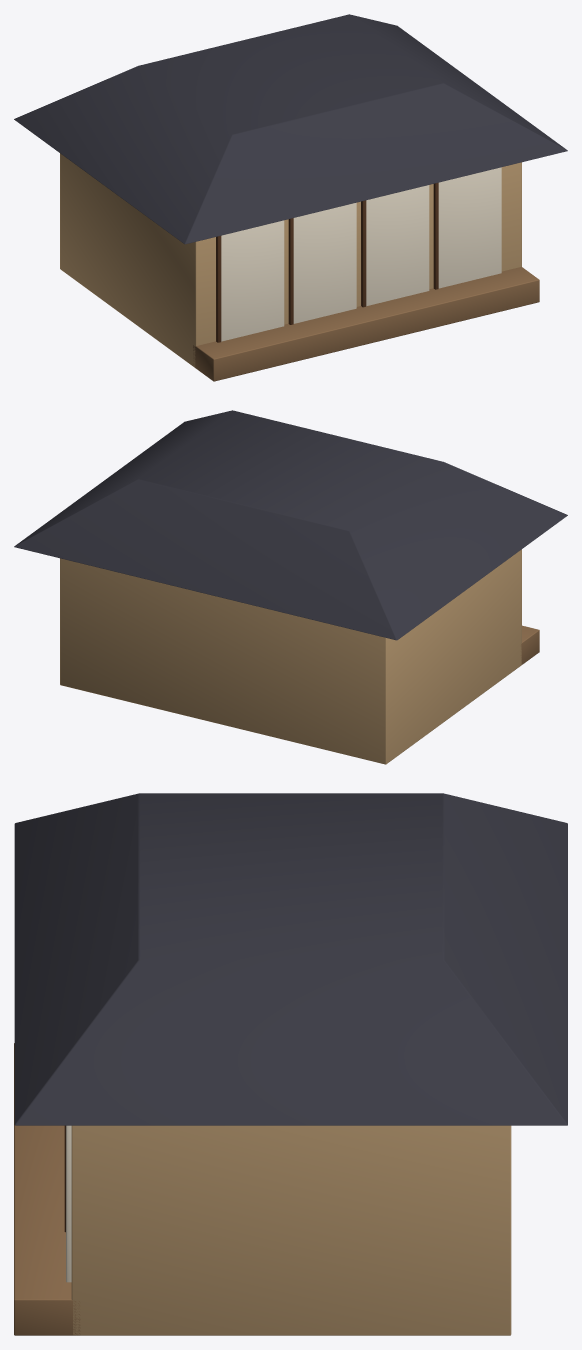
Rendered from rg_japao_2.glb.
3 renders of one model, top to bottom at view 1: azimuth 30°, elevation 25°; view 2: azimuth 150°, elevation 25°; view 3: azimuth 270°, elevation 25°, orthographic. The views are drawn at different scales.
Parts seen in each view (by area): view 1: rg_japao_2; view 2: rg_japao_2; view 3: rg_japao_2.
Part boxes in pixels (<box>): rg_japao_2: <box>14,14,567,381</box>; rg_japao_2: <box>14,410,567,764</box>; rg_japao_2: <box>14,793,567,1335</box>.
Size of the model in its own units: 10.58 by 5.4 by 8.19.
